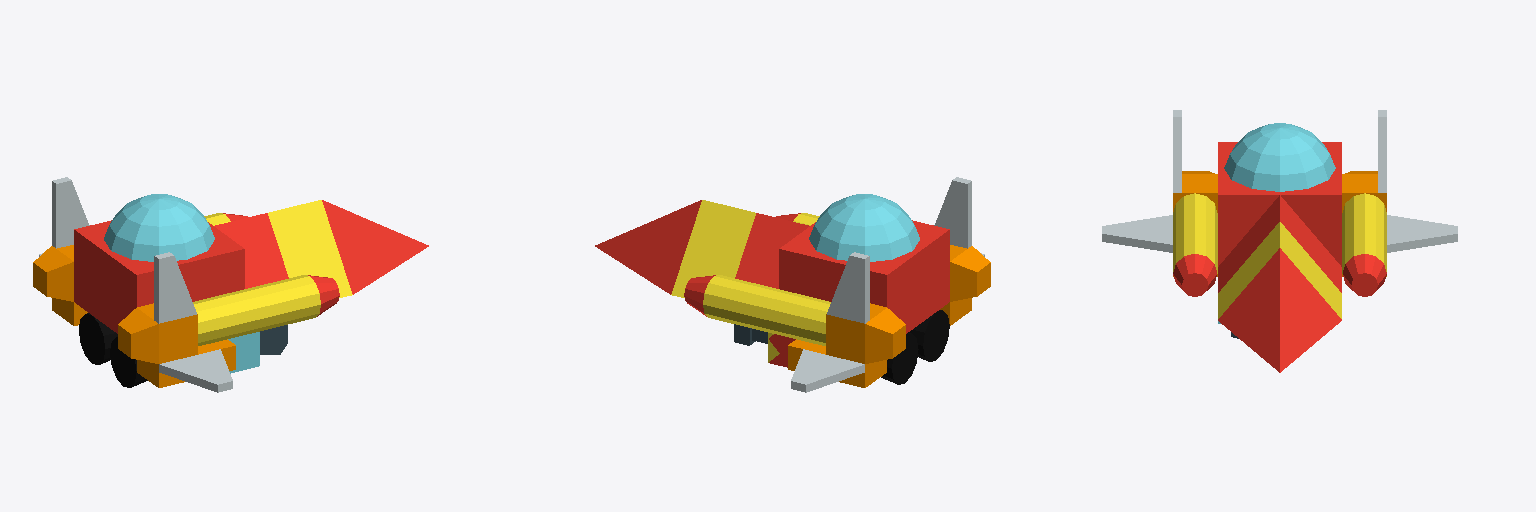
The picture shows the model from 3 angles: view 1: azimuth 30°, elevation 25°; view 2: azimuth 150°, elevation 25°; view 3: azimuth 270°, elevation 25°; orthographic projection.
Visible parts, largest first — view 1: group[number redacted], group[number redacted], group[number redacted], group[number redacted], group[number redacted], group[number redacted], group[number redacted], group[number redacted], group[number redacted], group[number redacted], group[number redacted], group[number redacted] (+7 smaller); view 2: group[number redacted], group[number redacted], group[number redacted], group[number redacted], group[number redacted], group[number redacted], group[number redacted], group[number redacted], group[number redacted], group[number redacted], group[number redacted], group[number redacted] (+5 smaller); view 3: group[number redacted], group[number redacted], group[number redacted], group[number redacted], group[number redacted], group[number redacted], group[number redacted], group[number redacted], group[number redacted], group[number redacted], group[number redacted], group[number redacted] (+2 smaller).
Part boxes in pixels (x1,y1,x2,y2): group[number redacted]: (74,220,244,333); group[number redacted]: (214,200,352,297); group[number redacted]: (104,194,214,261); group[number redacted]: (193,275,320,345); group[number redacted]: (322,200,428,294); group[number redacted]: (154,252,196,323); group[number redacted]: (159,349,232,392); group[number redacted]: (52,177,89,248); group[number redacted]: (118,308,158,363); group[number redacted]: (33,246,73,301); group[number redacted]: (137,303,197,363); group[number redacted]: (79,313,117,364); group[number redacted]: (779,220,949,333); group[number redacted]: (671,200,809,297); group[number redacted]: (809,194,919,261); group[number redacted]: (703,275,830,345); group[number redacted]: (595,200,701,294); group[number redacted]: (827,252,869,323); group[number redacted]: (791,349,864,392); group[number redacted]: (934,177,971,248); group[number redacted]: (865,308,905,363); group[number redacted]: (950,246,990,301); group[number redacted]: (826,303,886,363); group[number redacted]: (908,310,949,361); group[number redacted]: (1218,248,1341,372); group[number redacted]: (1218,195,1341,318); group[number redacted]: (1218,142,1341,266); group[number redacted]: (1224,123,1335,191); group[number redacted]: (1342,193,1386,273); group[number redacted]: (1173,193,1217,273); group[number redacted]: (1387,215,1457,252); group[number redacted]: (1102,215,1172,252); group[number redacted]: (1343,254,1386,296); group[number redacted]: (1173,254,1216,296); group[number redacted]: (1342,174,1386,212); group[number redacted]: (1173,174,1217,212).
Bounding box in the file's own units: 0.45 × 0.2 × 0.4.